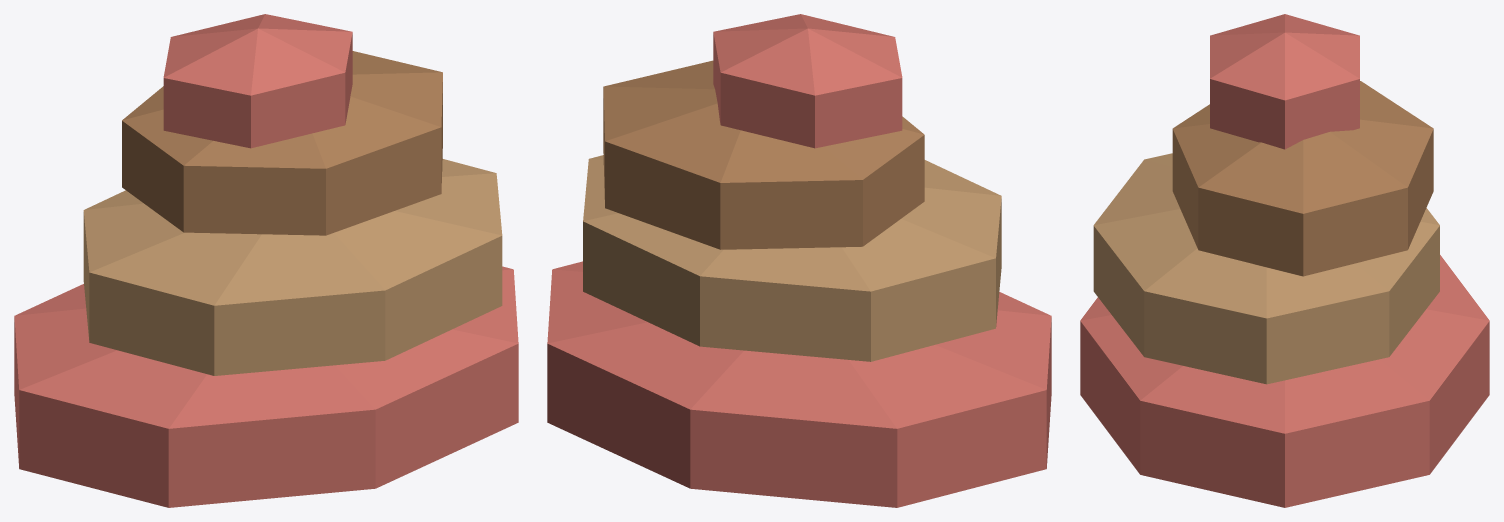
File: deco_sandstone.obj
The picture shows the model from 3 angles, left to right: view 1: azimuth 30°, elevation 25°; view 2: azimuth 150°, elevation 25°; view 3: azimuth 270°, elevation 25°; orthographic projection. The views are drawn at different scales.
Parts seen in each view (by area): view 1: deco_sandstone; view 2: deco_sandstone; view 3: deco_sandstone.
Boxes of the visible parts, x1=… form: deco_sandstone: x1=14, y1=14, x2=518, y2=507; deco_sandstone: x1=547, y1=14, x2=1051, y2=507; deco_sandstone: x1=1080, y1=14, x2=1489, y2=507.
Size of the model in its own units: 0.0294 by 0.024 by 0.0225.
Materials: 1 (1 with a texture image).
